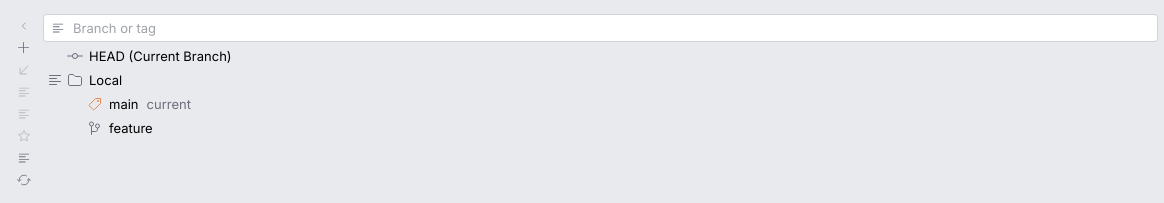
it: Branches pane › has a vertical toolbar acting on the selected branch, and shows tags
Check: the field with placeholder "Branch or tag" is shown, box [71,14,1154,42]
Check: the button named "Delete Branch" is disabled, box [14,82,34,102]
Press the mouse on the text "feature" at [131, 128], box [109,119,153,137]
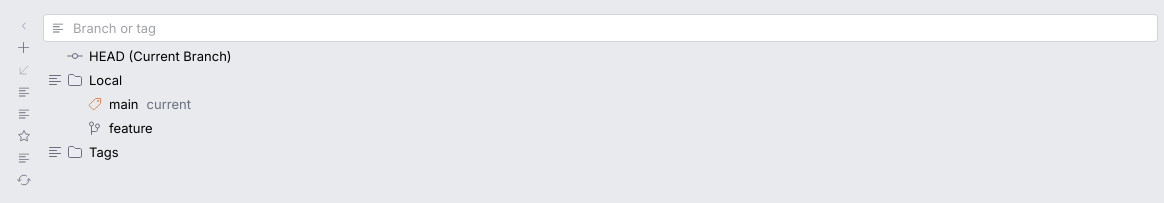
Check: the button named "Delete Branch" is enabled, box [14,82,34,102]
Check: the text "Tags" is shown, box [89,143,119,161]
